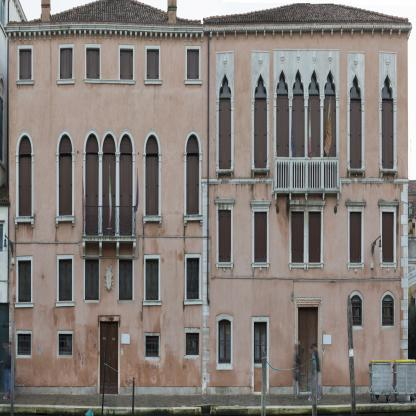Building Outline: (3, 0, 409, 396)
Cornice: (287, 200, 326, 205), (214, 199, 235, 204), (250, 200, 271, 205), (378, 201, 399, 206), (345, 201, 367, 205)
Deco: (104, 264, 114, 291), (223, 54, 227, 68), (280, 50, 284, 64), (328, 50, 332, 64), (354, 54, 358, 68), (297, 50, 300, 64), (313, 50, 316, 64), (259, 53, 262, 66), (386, 56, 389, 68), (337, 194, 340, 206), (305, 193, 308, 202), (275, 194, 277, 206), (322, 193, 325, 201), (334, 207, 337, 214), (276, 207, 279, 214), (290, 193, 292, 201)
Door: (298, 307, 318, 392), (102, 133, 116, 236), (119, 134, 133, 236), (85, 133, 99, 235), (100, 321, 118, 395), (324, 95, 337, 188), (276, 95, 289, 188), (292, 95, 305, 188), (308, 95, 321, 188)
Facade: (3, 0, 412, 395)
Floor: (9, 128, 203, 240), (204, 189, 408, 289), (9, 240, 203, 312)
Floor Slab: (204, 189, 408, 194), (204, 285, 408, 290), (9, 123, 203, 128), (9, 307, 203, 312), (9, 236, 203, 241)
Ground Floor: (204, 289, 408, 395), (9, 312, 203, 395)
Molding: (201, 178, 409, 195), (203, 25, 412, 40), (5, 30, 204, 42)
Roof: (6, 0, 409, 27)
Sill: (82, 235, 137, 257), (84, 79, 136, 84), (183, 214, 203, 227), (14, 217, 35, 228), (55, 216, 75, 227), (143, 216, 163, 227), (215, 262, 234, 272), (251, 262, 270, 272), (216, 169, 233, 180), (380, 169, 398, 179), (348, 169, 365, 179), (252, 168, 269, 178), (306, 263, 324, 272), (347, 263, 365, 272), (289, 263, 306, 272), (379, 263, 397, 271), (142, 300, 162, 306), (14, 302, 34, 308), (55, 301, 75, 307), (184, 299, 203, 305), (144, 79, 163, 84), (57, 79, 75, 84), (16, 80, 34, 85), (184, 79, 202, 84)
Top Floor: (204, 25, 408, 189), (8, 32, 204, 127)
Window: (254, 73, 267, 169), (381, 74, 394, 169), (349, 74, 362, 169), (219, 73, 231, 169), (18, 135, 32, 217), (58, 134, 72, 216), (145, 134, 159, 216), (186, 134, 200, 215), (218, 210, 231, 262), (291, 211, 304, 263), (254, 212, 267, 262), (309, 211, 321, 263), (350, 211, 362, 263), (382, 211, 394, 263), (85, 259, 99, 300), (254, 321, 267, 364), (218, 320, 231, 363), (59, 259, 72, 301), (187, 258, 200, 300), (18, 261, 31, 302), (119, 259, 132, 300), (146, 259, 159, 300), (86, 48, 100, 79), (19, 49, 32, 80), (120, 49, 133, 80), (382, 295, 394, 327), (350, 295, 362, 327), (60, 48, 72, 79), (147, 48, 159, 79), (187, 49, 199, 79), (17, 333, 31, 355), (276, 69, 288, 94), (292, 69, 304, 94), (308, 69, 320, 94), (324, 70, 336, 94), (186, 333, 199, 355), (59, 333, 72, 355), (146, 336, 159, 357)
